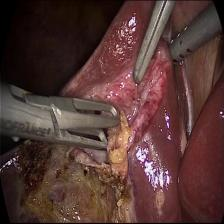Grasper: (0, 77, 121, 151), (132, 0, 172, 86)
Irrigator: (167, 16, 204, 70)
